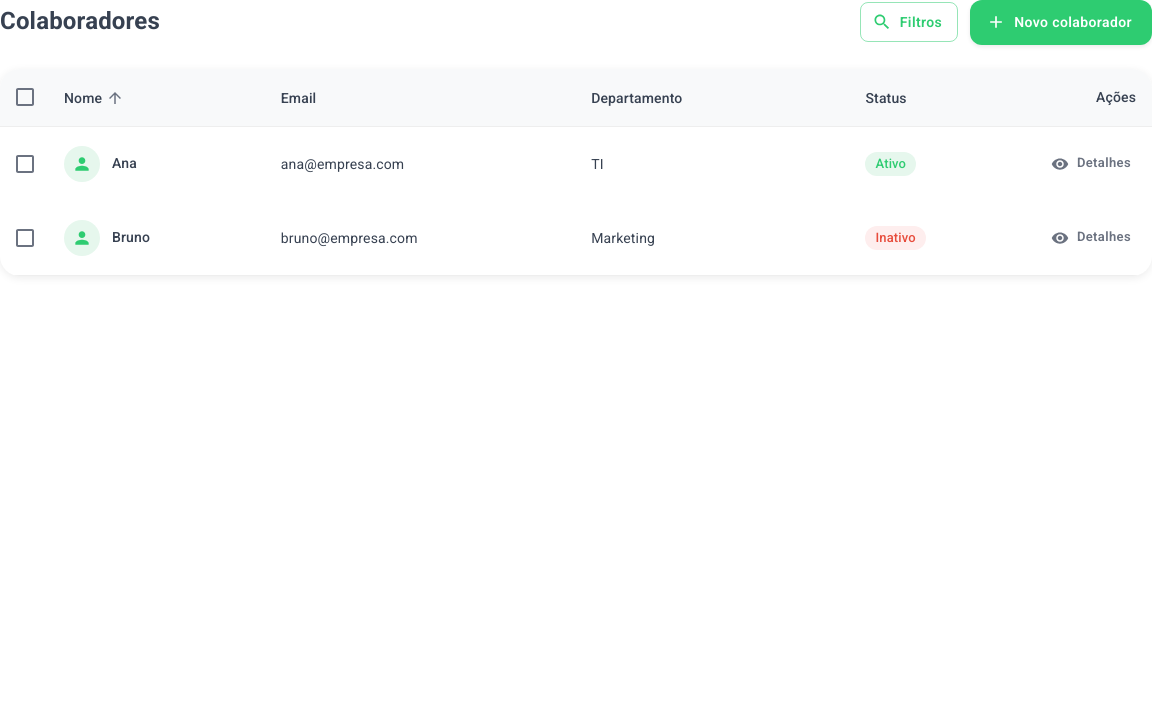
ColaboradoresPage (widget) › drawer detalhes e edição › ao cancelar edição, volta para modo detalhes
The image size is (1152, 716).
Expected: the text "Ana" is shown, [112,153,137,174]
Click the button "Detalhes" in the row of "ana@empresa.com" at (1092, 164), box [1048,148,1136,179]
(page scrolled)
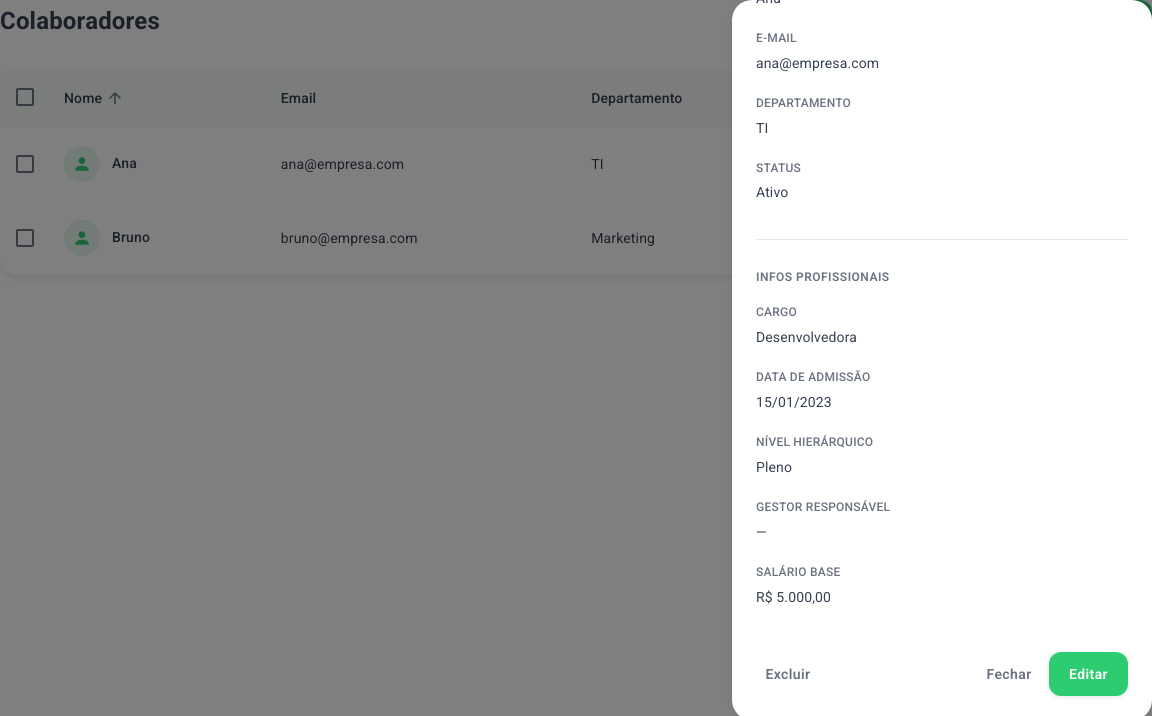
Click the button "Editar" at (1088, 674), box [1049,652,1128,696]
(page scrolled)
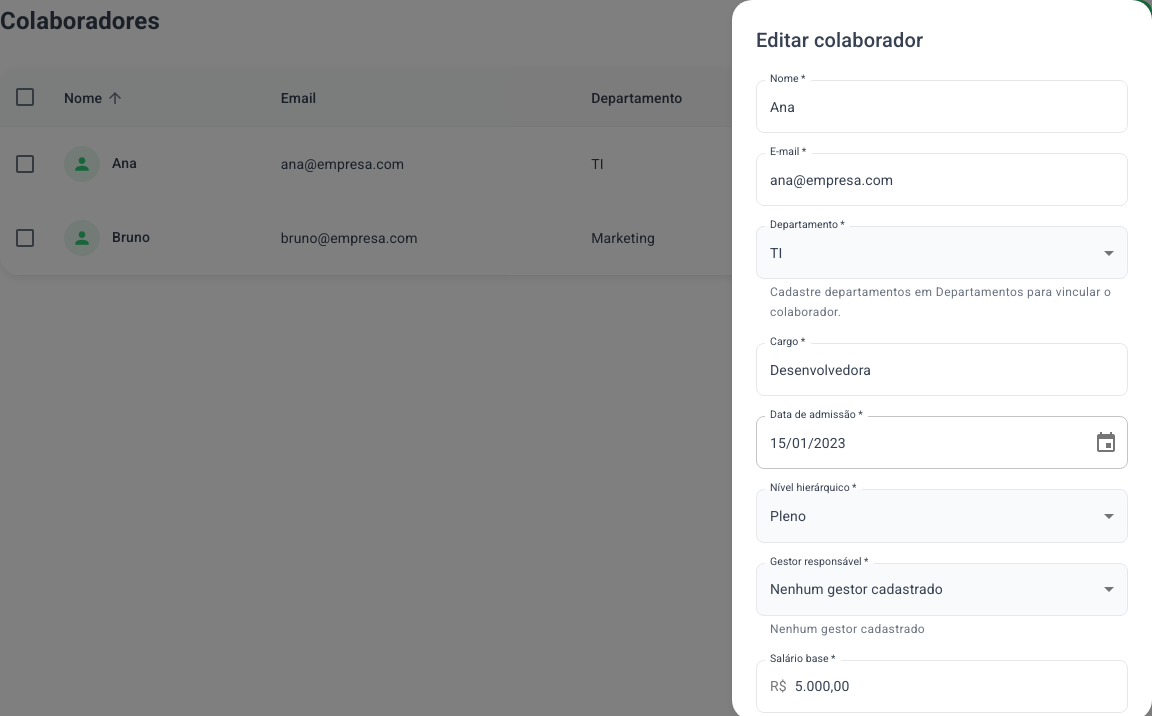
Replace the text in the field labelled "Nome *" with "Nome alterado" at (942, 107), box [756,80,1128,133]
(page scrolled)
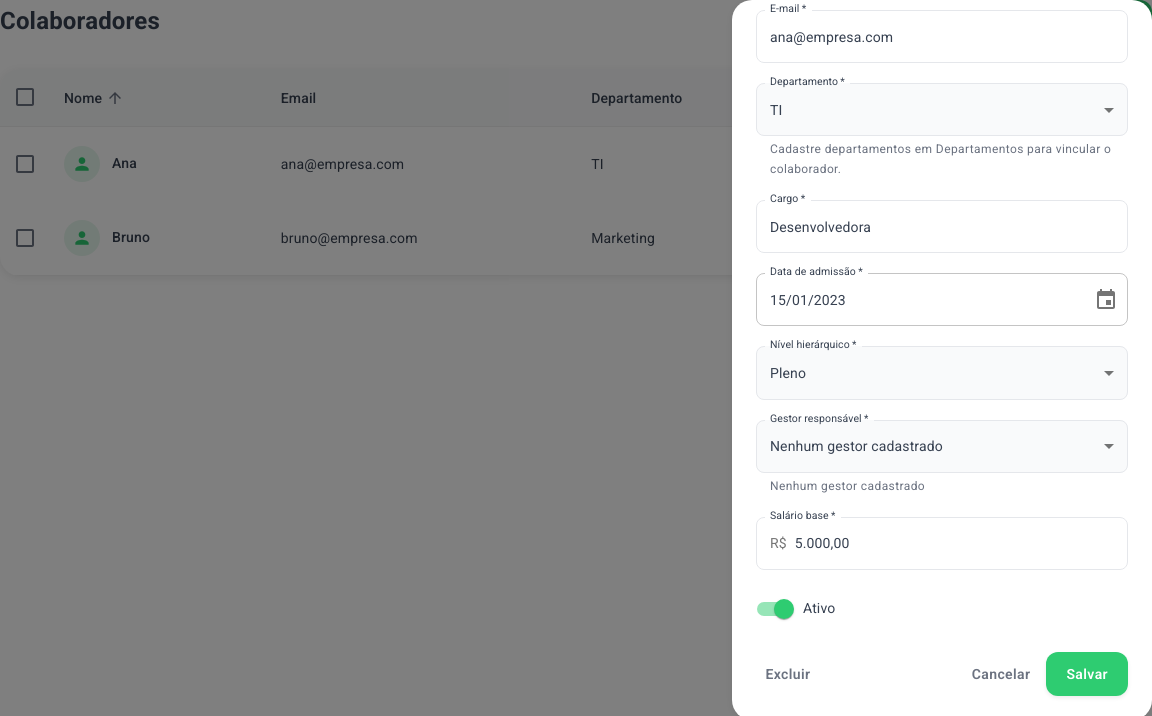
Click the button "Cancelar" at (1001, 674), box [964,652,1038,696]
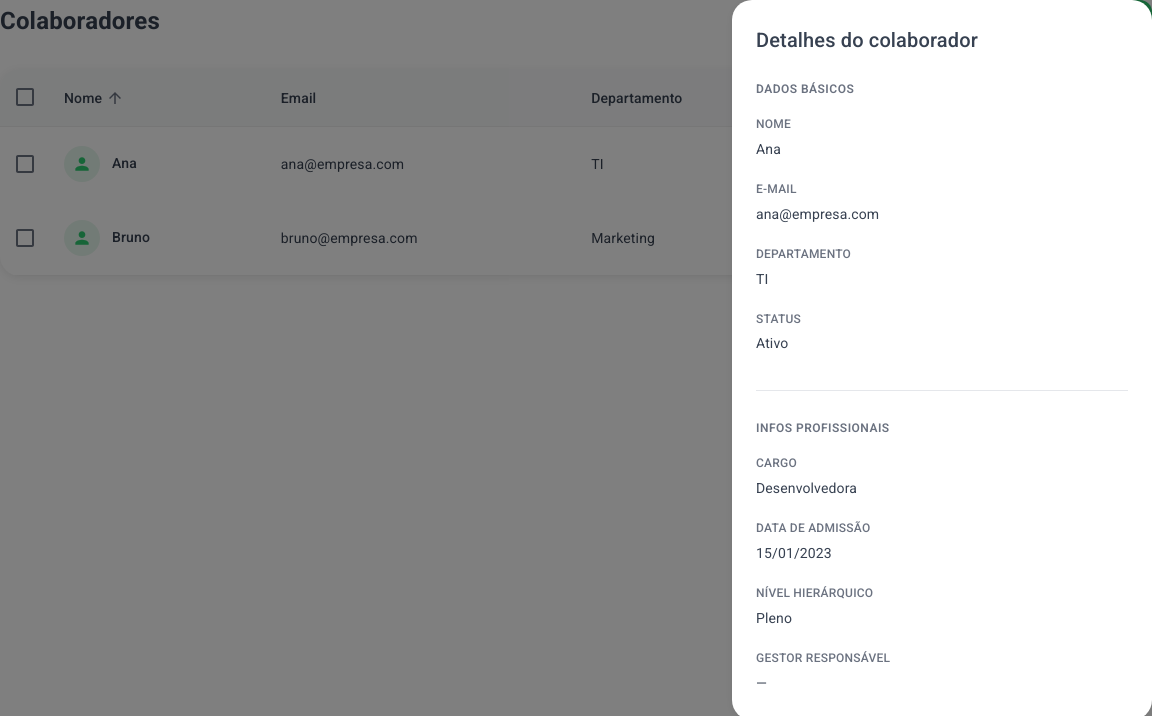
Now the heading "Detalhes do colaborador" is shown, box [756,28,978,52]
Now the text "Ana" is shown, box [756,141,781,157]
